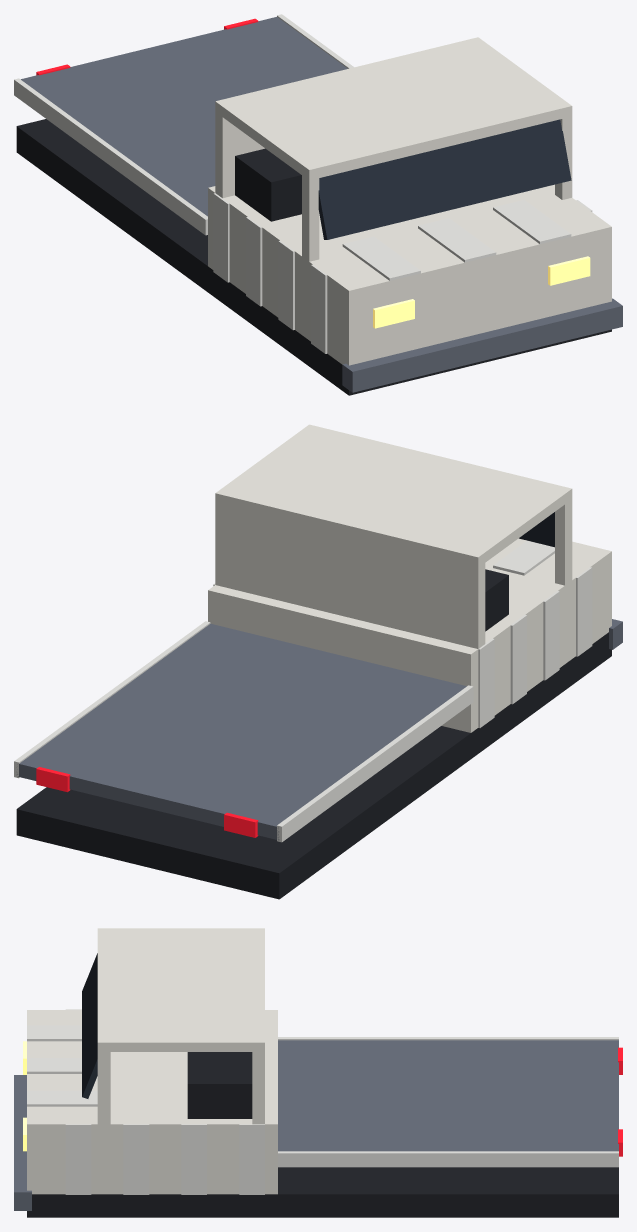
The model's file is circus_truck.glb.
The picture shows the model from 3 angles, top to bottom: view 1: azimuth 30°, elevation 25°; view 2: azimuth 150°, elevation 25°; view 3: azimuth 270°, elevation 25°; orthographic projection. The views are drawn at different scales.
Parts seen in each view (by area): view 1: cab_circus_white, bed_car_grey, body_car_black, body_truck_glass, paint_circus_paint, body_car_grey, lights_lamp; view 2: cab_circus_white, bed_car_grey, body_car_black, paint_circus_paint, lights_tail, body_truck_glass; view 3: cab_circus_white, bed_car_grey, body_car_black, paint_circus_paint, body_truck_glass, body_car_grey.
Boxes of the visible parts, x1=… form: cab_circus_white: x1=208, y1=37, x2=611, y2=365; bed_car_grey: x1=21, y1=17, x2=347, y2=216; body_car_black: x1=16, y1=119, x2=611, y2=395; body_truck_glass: x1=318, y1=119, x2=571, y2=239; paint_circus_paint: x1=14, y1=14, x2=592, y2=353; body_car_grey: x1=342, y1=298, x2=622, y2=392; lights_lamp: x1=373, y1=256, x2=590, y2=328; cab_circus_white: x1=208, y1=424, x2=611, y2=732; bed_car_grey: x1=17, y1=623, x2=466, y2=840; body_car_black: x1=16, y1=569, x2=611, y2=899; paint_circus_paint: x1=14, y1=540, x2=592, y2=842; lights_tail: x1=36, y1=767, x2=258, y2=837; body_truck_glass: x1=519, y1=512, x2=554, y2=547; cab_circus_white: x1=27, y1=928, x2=277, y2=1194; bed_car_grey: x1=278, y1=1040, x2=618, y2=1151; body_car_black: x1=27, y1=1052, x2=618, y2=1217; paint_circus_paint: x1=27, y1=1009, x2=618, y2=1194; body_truck_glass: x1=82, y1=953, x2=97, y2=1098; body_car_grey: x1=14, y1=1075, x2=31, y2=1210.
Bounding box in the file's own units: 2.16 × 1.5 × 4.73.
